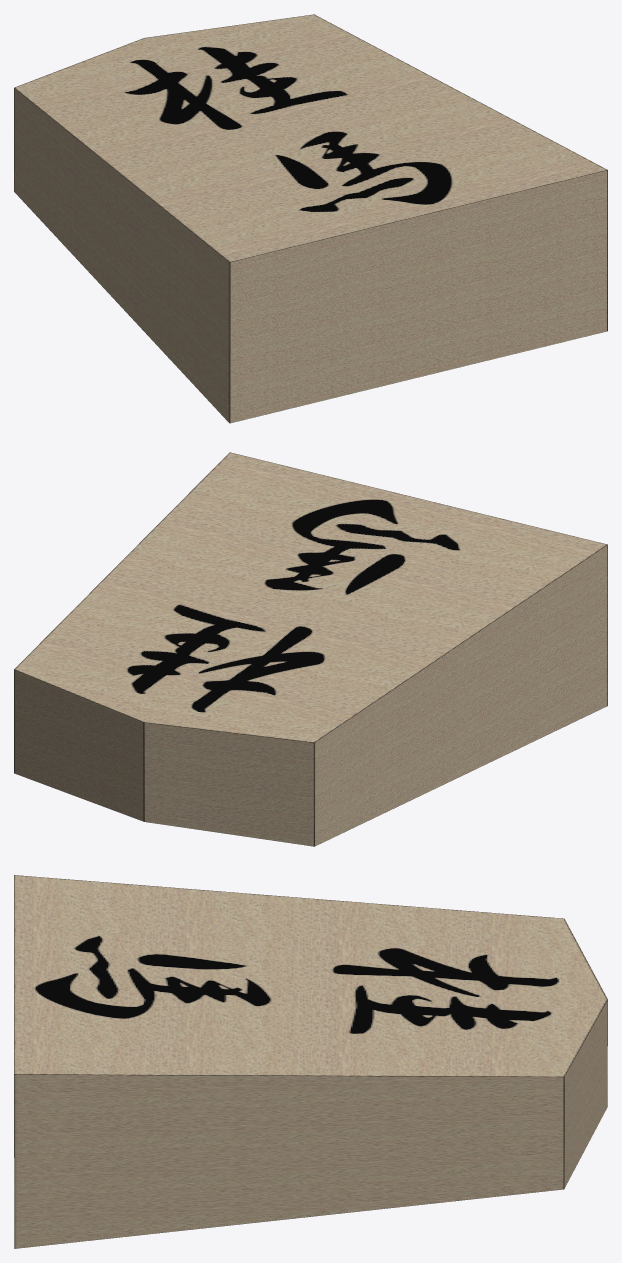
The model's file is 06_Keima.fbx.
3 renders of one model, top to bottom at view 1: azimuth 30°, elevation 25°; view 2: azimuth 150°, elevation 25°; view 3: azimuth 270°, elevation 25°, orthographic. The views are drawn at different scales.
Visible parts, largest first — view 1: 06_Keima; view 2: 06_Keima; view 3: 06_Keima.
Part boxes in pixels (x1,y1,x2,y2): 06_Keima: [14, 14, 607, 423]; 06_Keima: [14, 452, 607, 846]; 06_Keima: [14, 875, 607, 1248].
Size of the model in its own units: 0.5925 by 0.7456 by 0.2415.
Materials: 1 (1 with a texture image).
